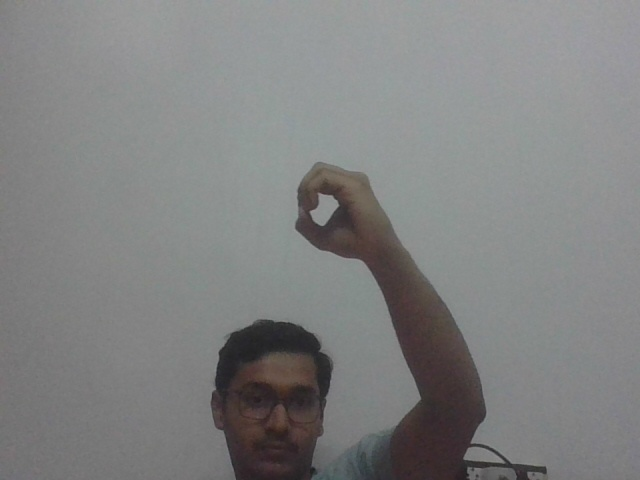O: (294, 158, 386, 266)
